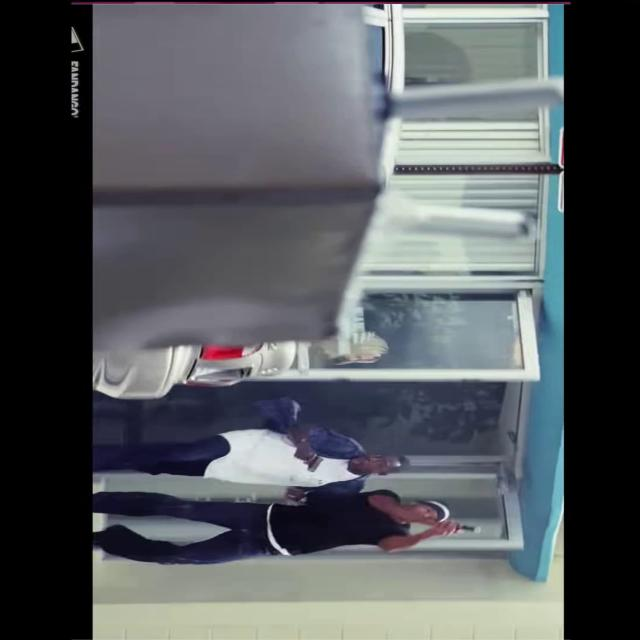weapons: (278, 444, 335, 476), (415, 515, 489, 539)
